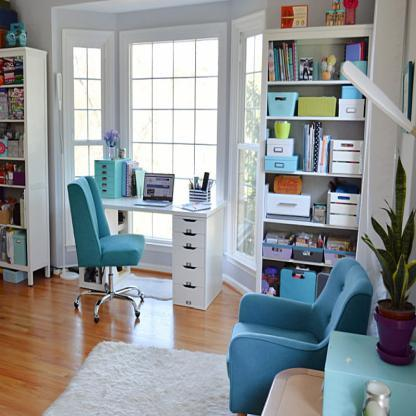chair: (225, 248, 374, 416), (67, 173, 151, 329)
light: (335, 54, 416, 151)
table: (96, 190, 228, 319)
